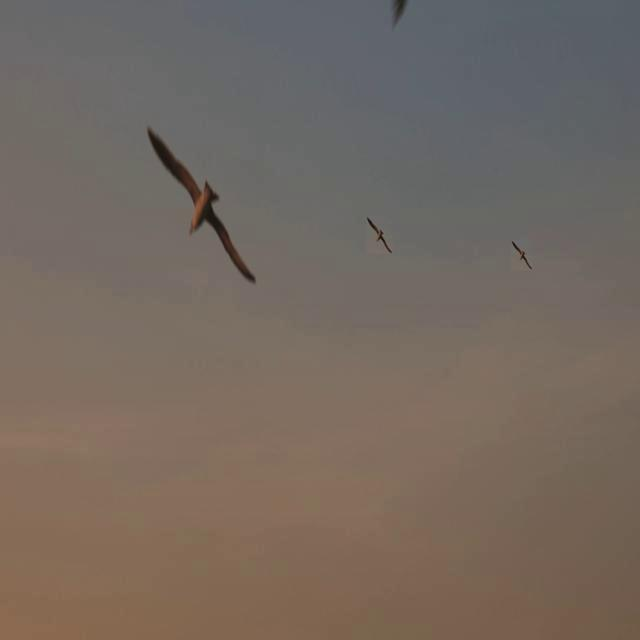bird: (146, 126, 258, 285), (368, 215, 394, 253), (387, 0, 412, 32), (510, 240, 534, 270)
